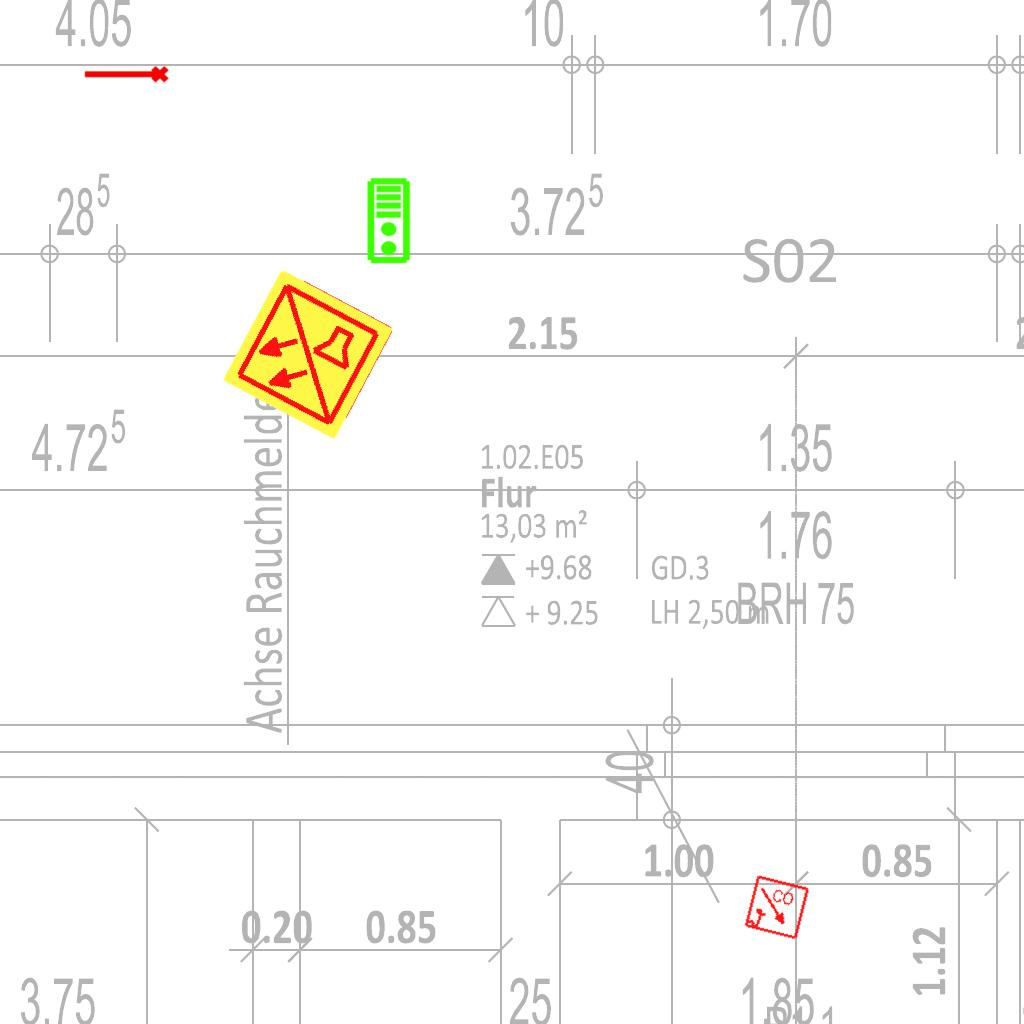ASR_Ansaugoeffnung: (82, 64, 170, 87)
Gegensprechanlage_mit_Video: (366, 177, 413, 265)
OKW_Multisensormelder_(Kombination_optischer_Rauch-Kahlenmonoxid_Waerme-Melder): (218, 264, 398, 444)
ROA_Rauchmelder_optisch_mit_Signalgeber_(Sockelsirene): (743, 874, 811, 942)
